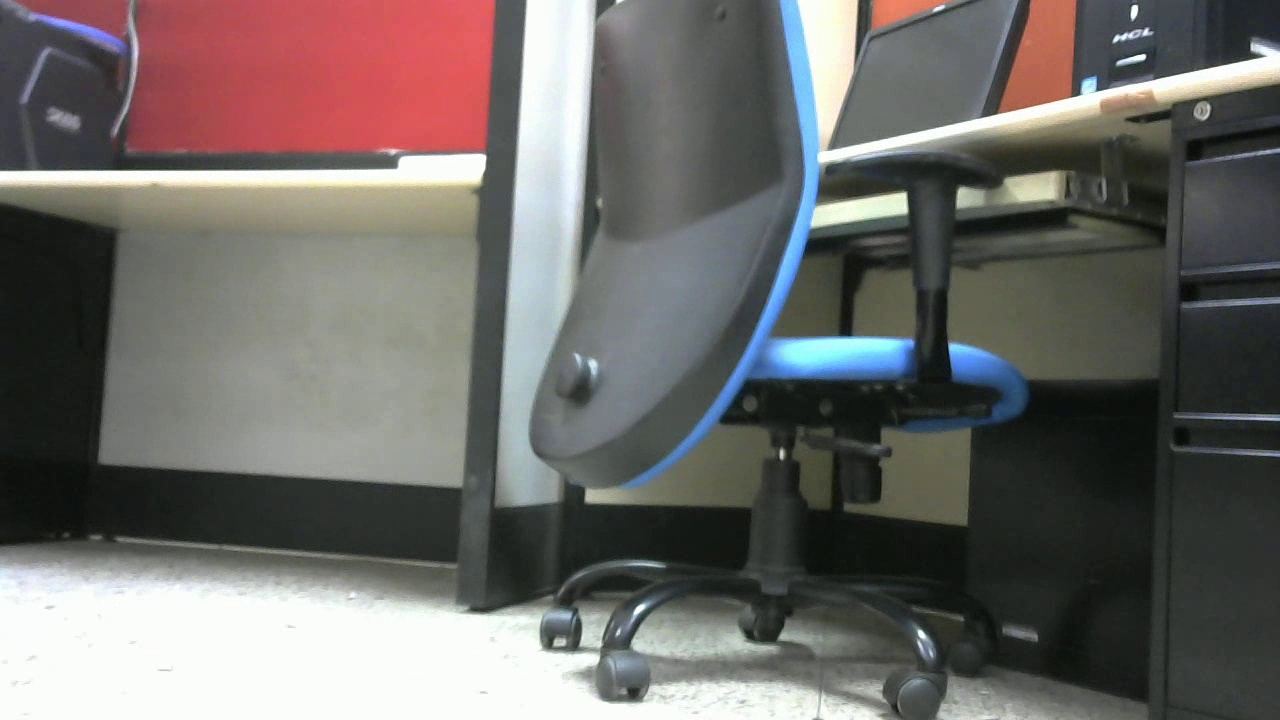chair: (530, 2, 1032, 719)
